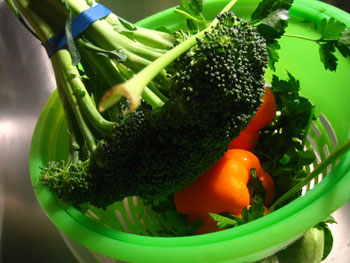broccoli: (5, 2, 269, 212)
